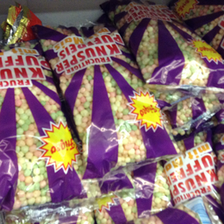candy: (32, 18, 174, 170), (1, 41, 81, 207), (118, 2, 223, 88)
